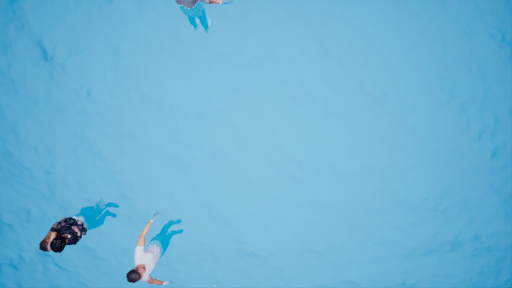person: (124, 200, 194, 287), (28, 194, 120, 252)
